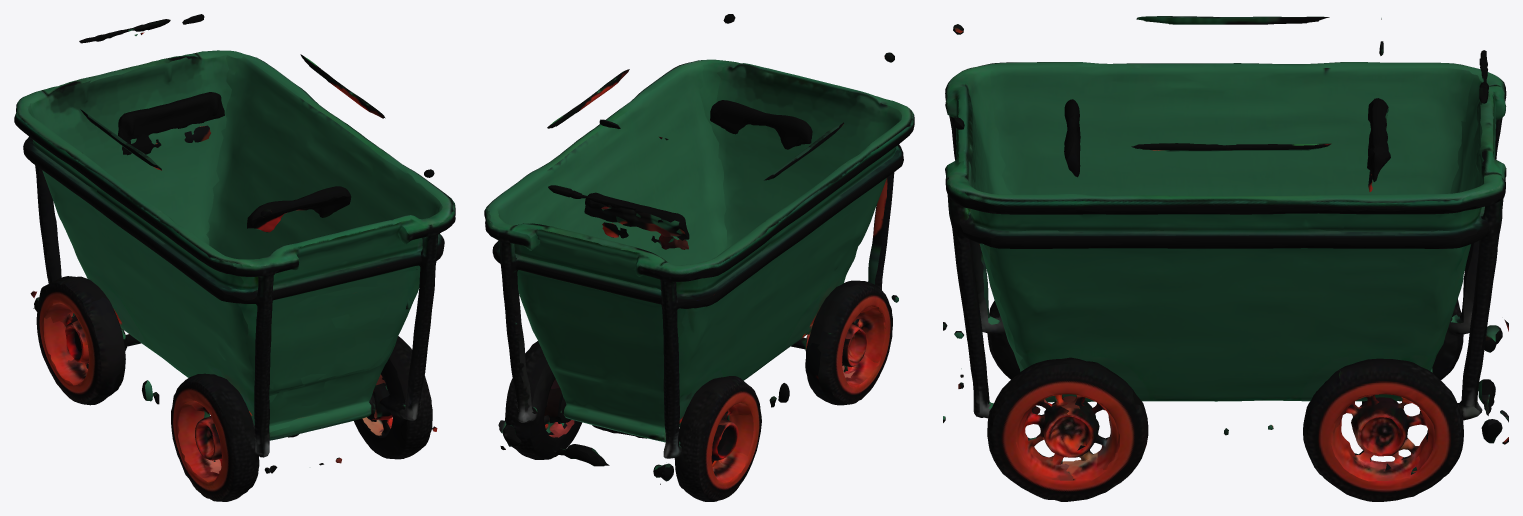
File: contenedor_basura.glb
3 views of the same model, side by side, from view 1: azimuth 30°, elevation 25°; view 2: azimuth 150°, elevation 25°; view 3: azimuth 270°, elevation 25° (orthographic). The views are drawn at different scales.
Visible parts, largest first — view 1: tmp3fueuuuq.ply; view 2: tmp3fueuuuq.ply; view 3: tmp3fueuuuq.ply.
Part boxes in pixels (bbox=[...]): tmp3fueuuuq.ply: bbox=[14, 14, 455, 501]; tmp3fueuuuq.ply: bbox=[484, 14, 914, 501]; tmp3fueuuuq.ply: bbox=[943, 16, 1508, 501].
Size of the model in its own units: 0.5963 by 0.8197 by 1.
1 material, 1 textured.
